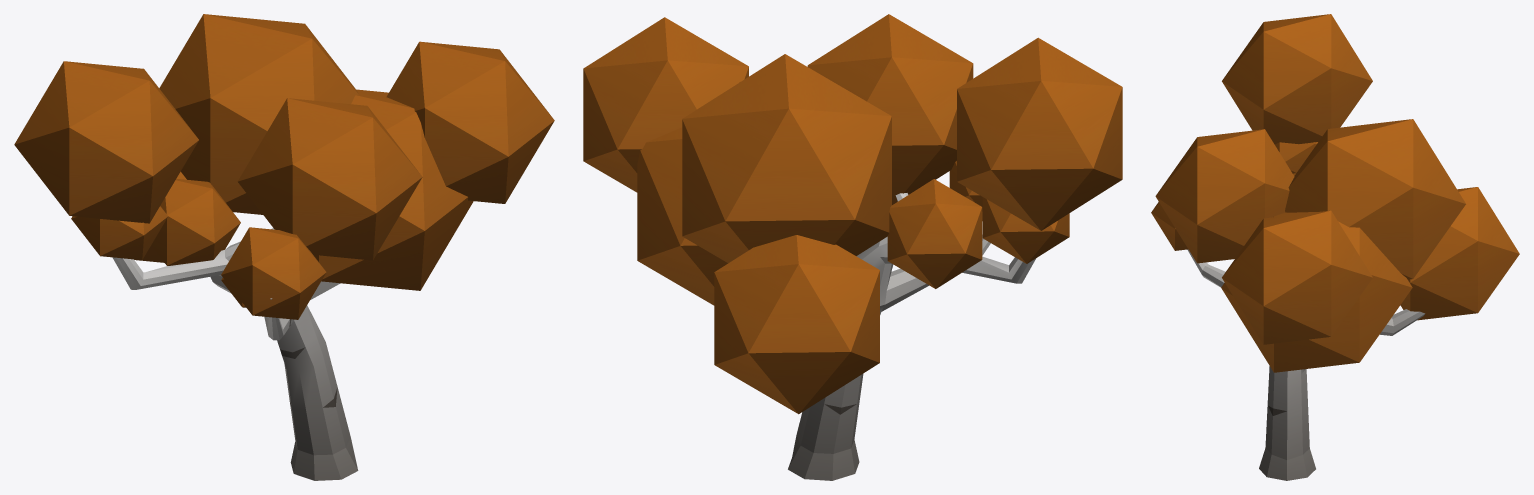
File: arbol10.fbx
3 renders of one model, left to right at view 1: azimuth 30°, elevation 25°; view 2: azimuth 150°, elevation 25°; view 3: azimuth 270°, elevation 25°, orthographic. The views are drawn at different scales.
Visible parts, largest first — view 1: arbol10; view 2: arbol10; view 3: arbol10.
Part boxes in pixels (<box>): arbol10: <box>14,14,554,480</box>; arbol10: <box>583,14,1122,480</box>; arbol10: <box>1151,14,1519,480</box>.
Bounding box in the file's own units: 4261 × 3614 × 3341.
